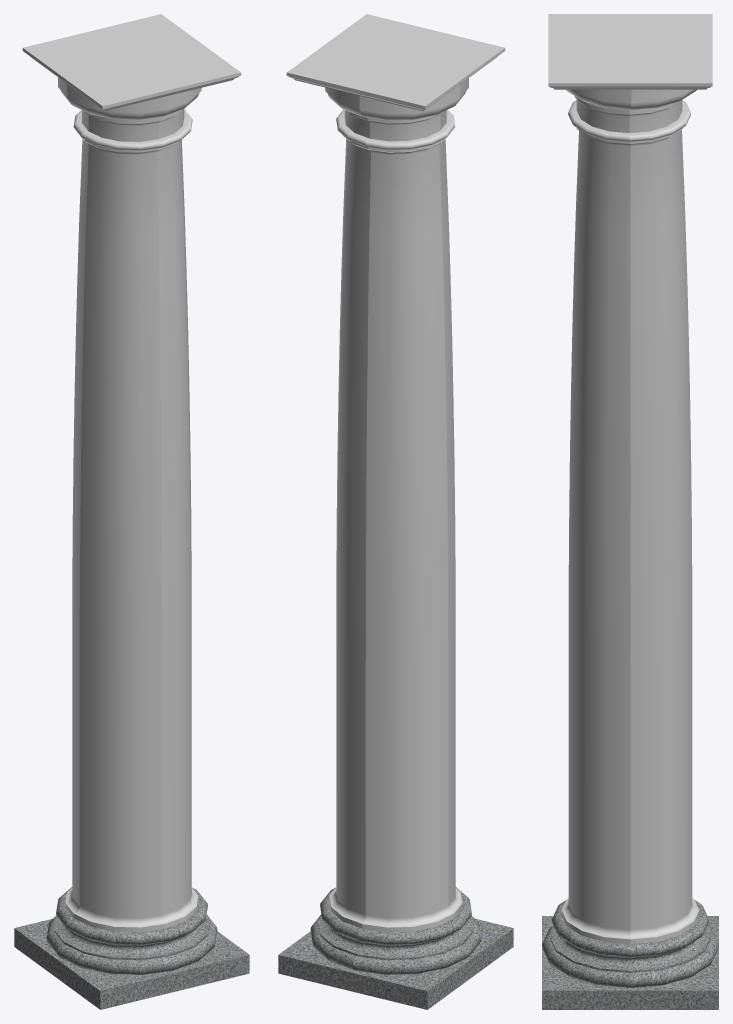
Rendered from greek_column_1.glb.
The picture shows the model from 3 angles, left to right: view 1: azimuth 30°, elevation 25°; view 2: azimuth 150°, elevation 25°; view 3: azimuth 270°, elevation 25°; orthographic projection. The views are drawn at different scales.
Visible parts, largest first — view 1: column_1_part_2, column_1_part_1, column_1_part_5, column_1_part_3, column_1_part_4; view 2: column_1_part_2, column_1_part_1, column_1_part_5, column_1_part_3, column_1_part_4; view 3: column_1_part_2, column_1_part_1, column_1_part_5, column_1_part_3, column_1_part_4.
Part boxes in pixels (box(x1,y1,x2,y2)): column_1_part_2: box(65, 133, 198, 932); column_1_part_1: box(14, 887, 249, 1009); column_1_part_5: box(22, 14, 241, 111); column_1_part_3: box(73, 107, 192, 152); column_1_part_4: box(58, 77, 201, 119); column_1_part_2: box(329, 137, 462, 932); column_1_part_1: box(278, 887, 513, 1009); column_1_part_5: box(286, 14, 505, 111); column_1_part_3: box(336, 109, 454, 151); column_1_part_4: box(325, 78, 468, 120); column_1_part_2: box(561, 103, 699, 943); column_1_part_1: box(542, 900, 718, 1009); column_1_part_5: box(548, 14, 712, 89); column_1_part_3: box(568, 96, 690, 143); column_1_part_4: box(566, 89, 696, 110).
Size of the model in its own units: 0.8994 by 5.18 by 0.8994.
Materials: 1 (1 with a texture image).
